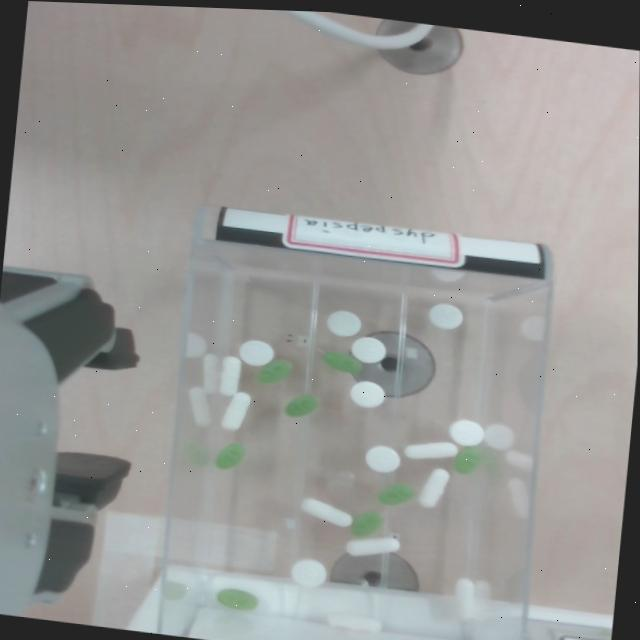magmil_tab: (289, 557, 326, 586), (365, 444, 399, 472), (350, 336, 385, 362), (349, 380, 384, 406), (448, 419, 483, 445), (238, 339, 273, 365), (427, 302, 461, 328), (326, 310, 360, 336)
medilacsenteric_tab: (300, 497, 351, 526), (417, 468, 449, 506), (221, 391, 250, 430), (326, 613, 381, 632), (345, 536, 399, 555), (403, 441, 457, 458), (453, 577, 475, 618), (218, 355, 240, 394)
nexilen_tab: (216, 588, 258, 610), (349, 510, 382, 537), (321, 351, 361, 372), (377, 483, 415, 505), (256, 359, 290, 383), (452, 446, 482, 473), (214, 442, 244, 469), (283, 394, 318, 416)
